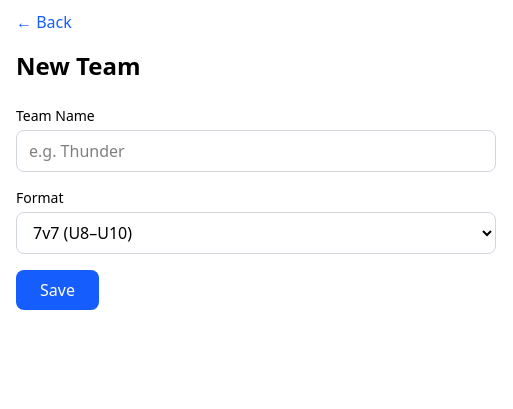
Test case: CreateTeam › shows field player count input for custom format
The width and height of the screenshot is (513, 409).
Select "Custom" in the dropdown labelled "Format". click: point(256, 233)
box: [16,212,496,254]
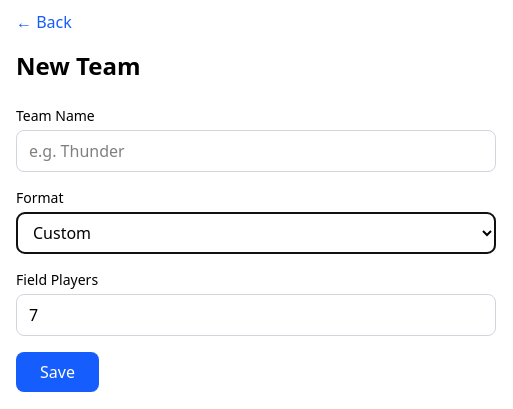
Expected: the number field labelled "Field Players" is shown, [16,294,496,336]
